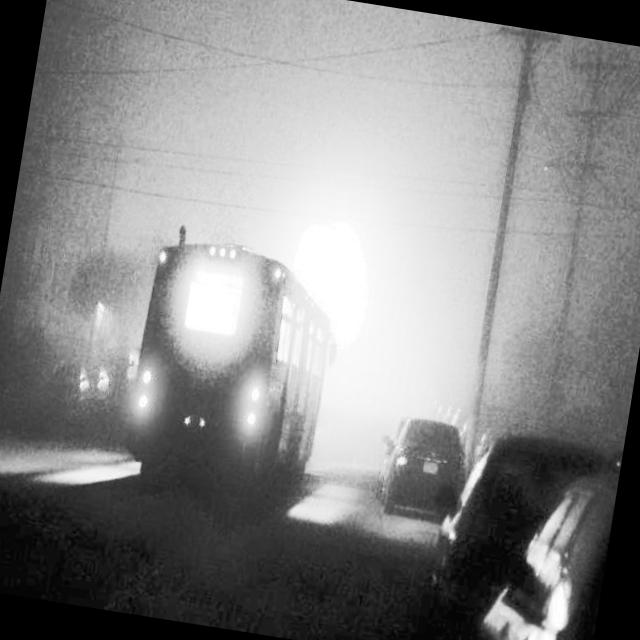Bus: (105, 214, 366, 532)
Car: (363, 383, 492, 544)
